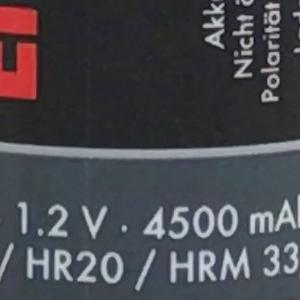HR20: (18, 243, 128, 289)
